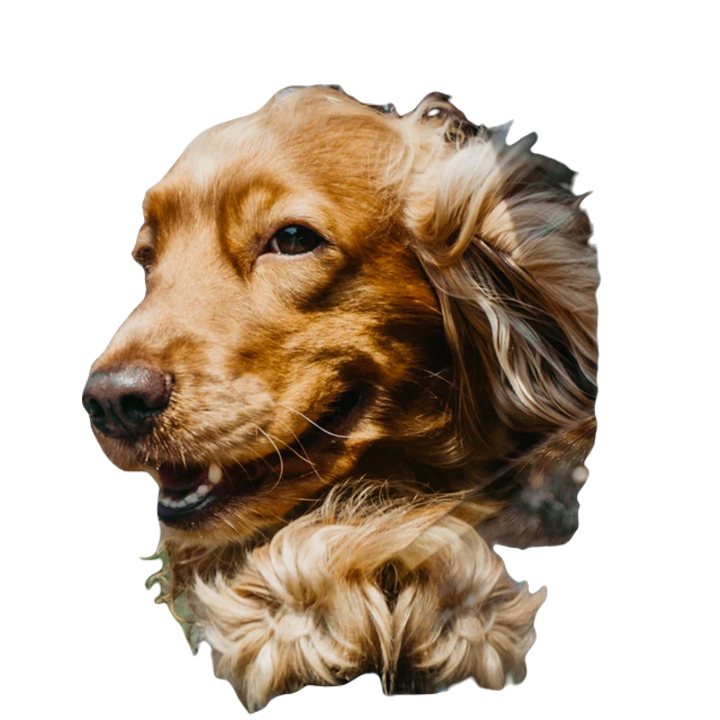Dog: (79, 83, 602, 714)
